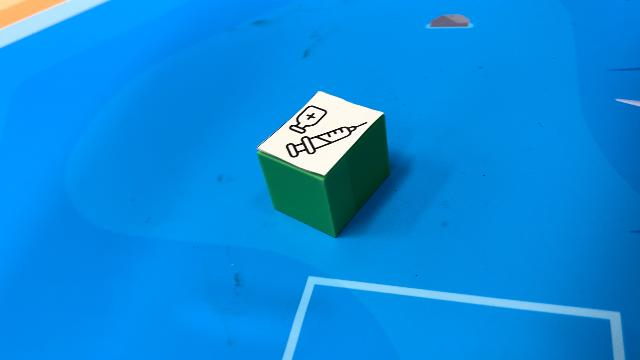syringe: (255, 90, 390, 238)
